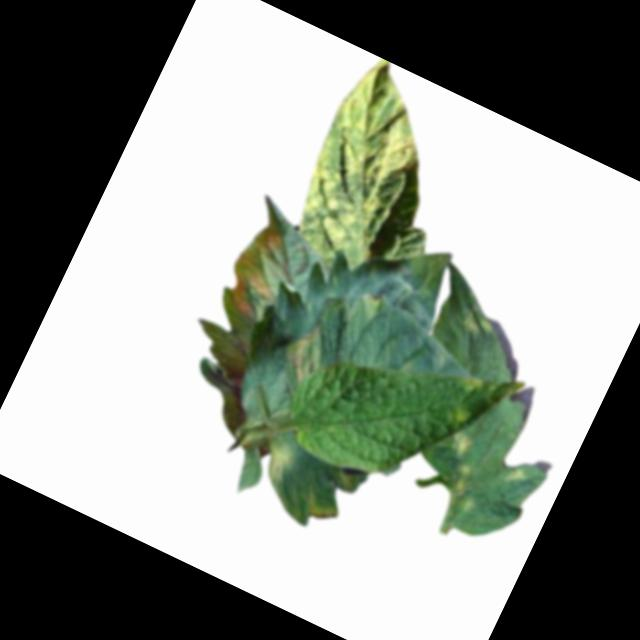Leaf_Mold: (283, 51, 452, 264), (216, 209, 310, 327), (423, 429, 497, 515), (278, 321, 339, 393), (258, 434, 303, 485), (457, 306, 500, 344), (301, 494, 339, 528), (358, 287, 390, 319), (459, 368, 488, 394), (508, 462, 531, 485)
